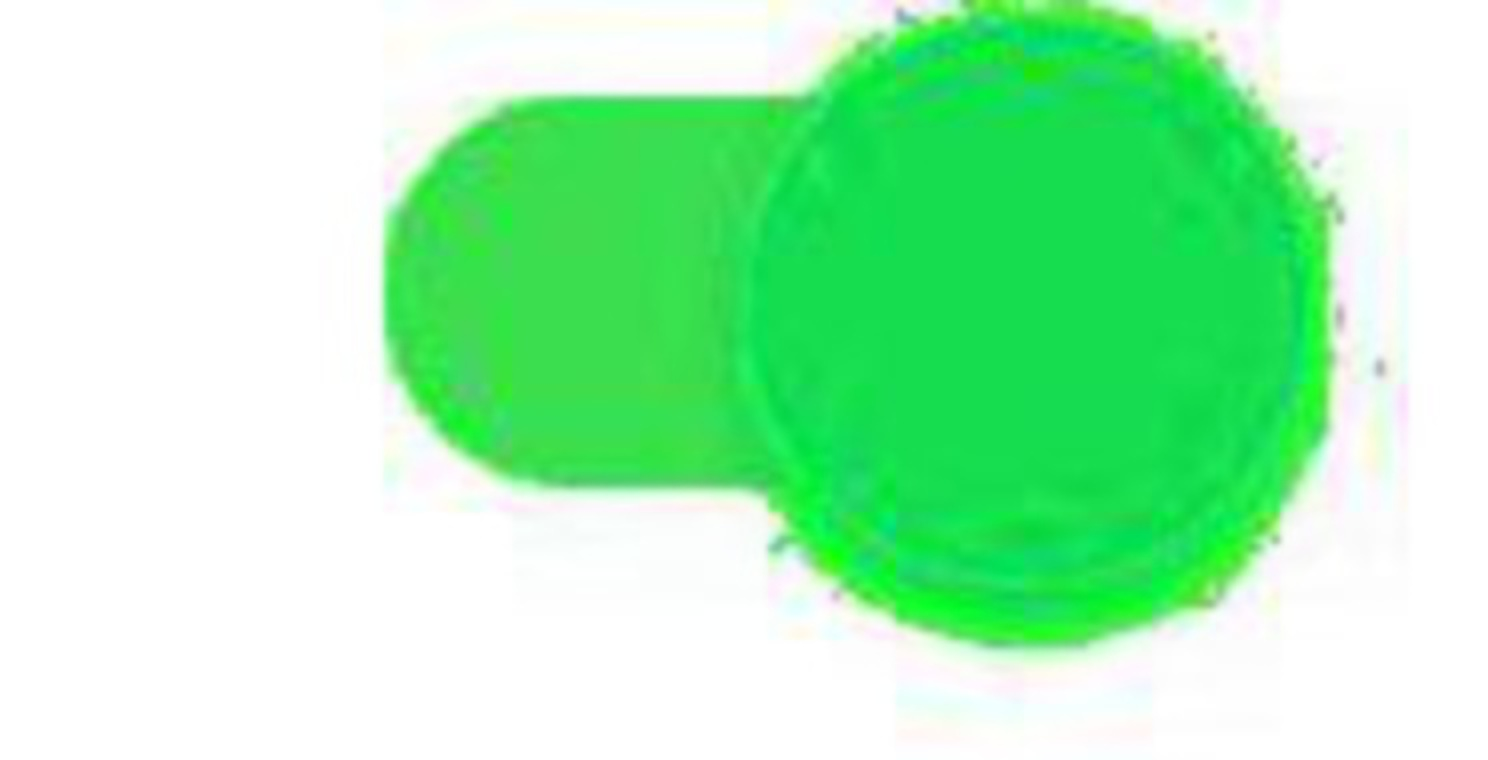Switch: (1, 1, 1487, 759)
